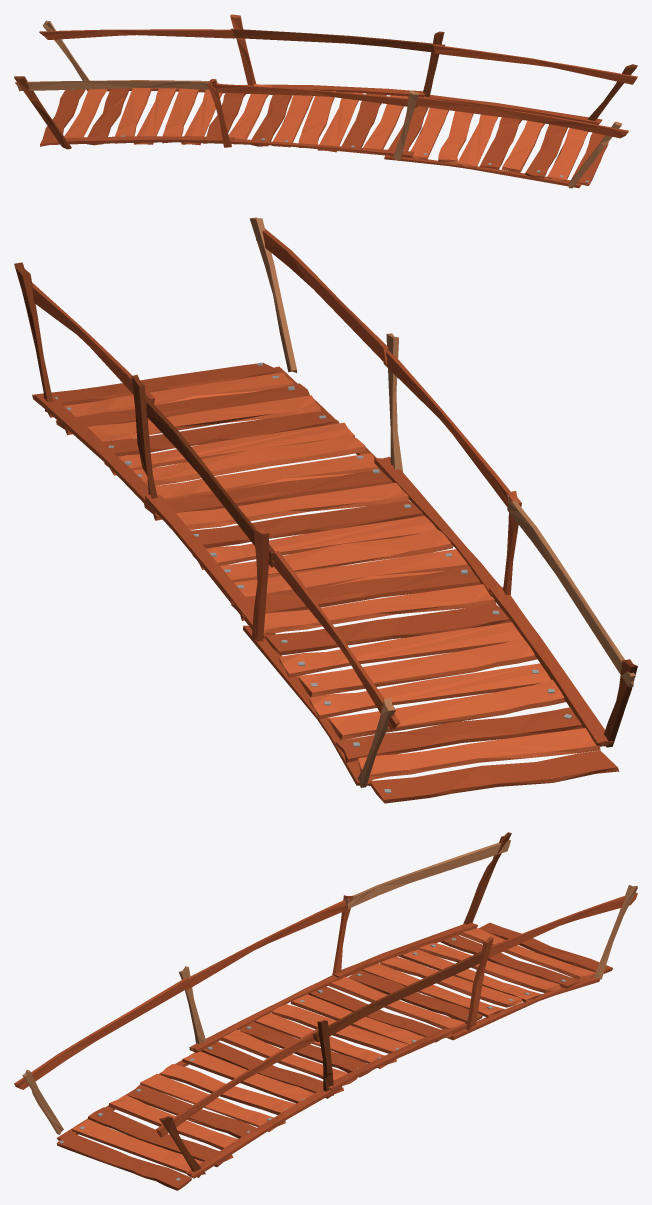
The model's file is Bridge.FBX.
The picture shows the model from 3 angles, top to bottom: view 1: azimuth 30°, elevation 25°; view 2: azimuth 150°, elevation 25°; view 3: azimuth 270°, elevation 25°; orthographic projection. The views are drawn at different scales.
Parts seen in each view (by area): view 1: Planks, Bridge; view 2: Planks, Bridge; view 3: Planks, Bridge.
Boxes of the visible parts, left/top/right/bottom form: Planks: left=40, top=83, right=608, bottom=185; Bridge: left=14, top=14, right=637, bottom=188; Planks: left=32, top=362, right=619, bottom=803; Bridge: left=14, top=217, right=637, bottom=787; Planks: left=56, top=922, right=612, bottom=1190; Bridge: left=14, top=832, right=637, bottom=1178.
Bounding box in the file's own units: 104 × 17.79 × 95.85.
